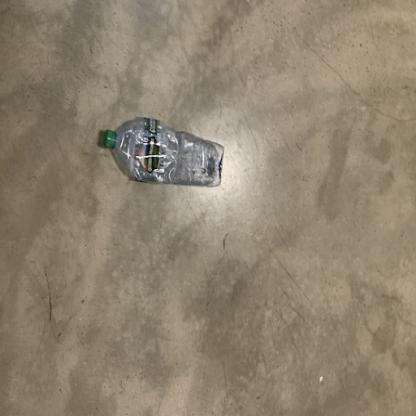trash: (102, 116, 227, 187)
